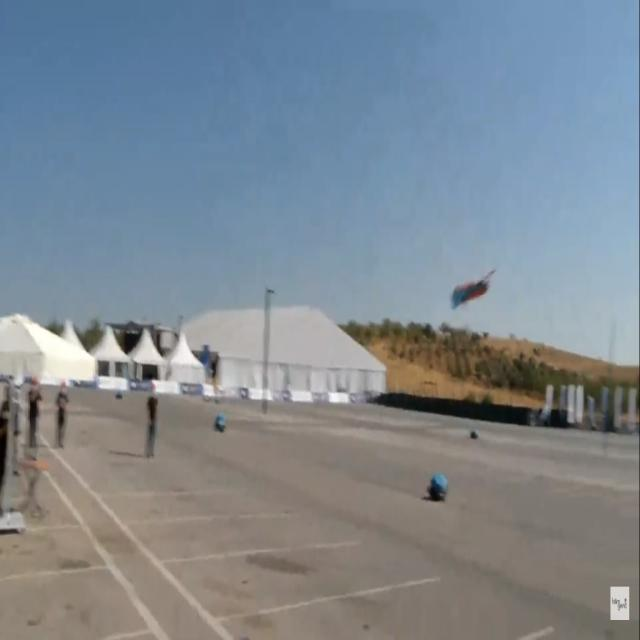iha: (448, 268, 496, 312)
